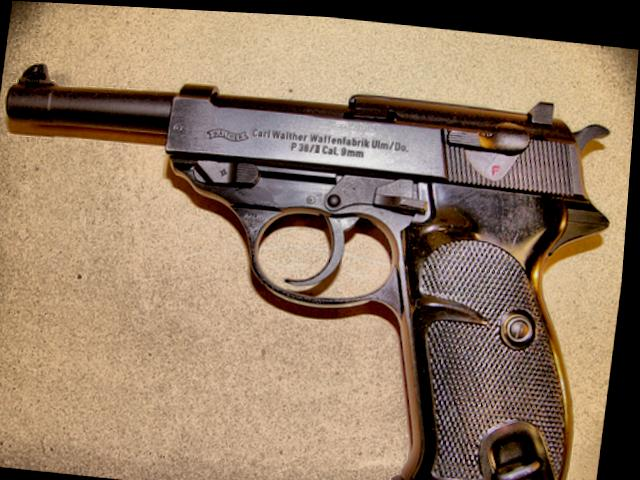pistol: (0, 44, 622, 480)
